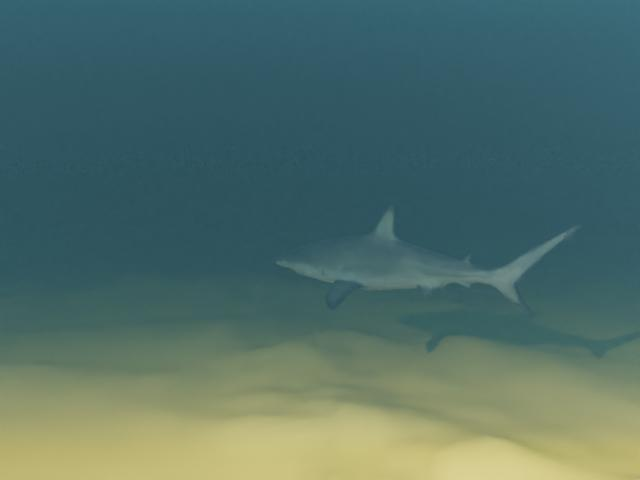Carribean Shark.001: (274, 204, 581, 310)
